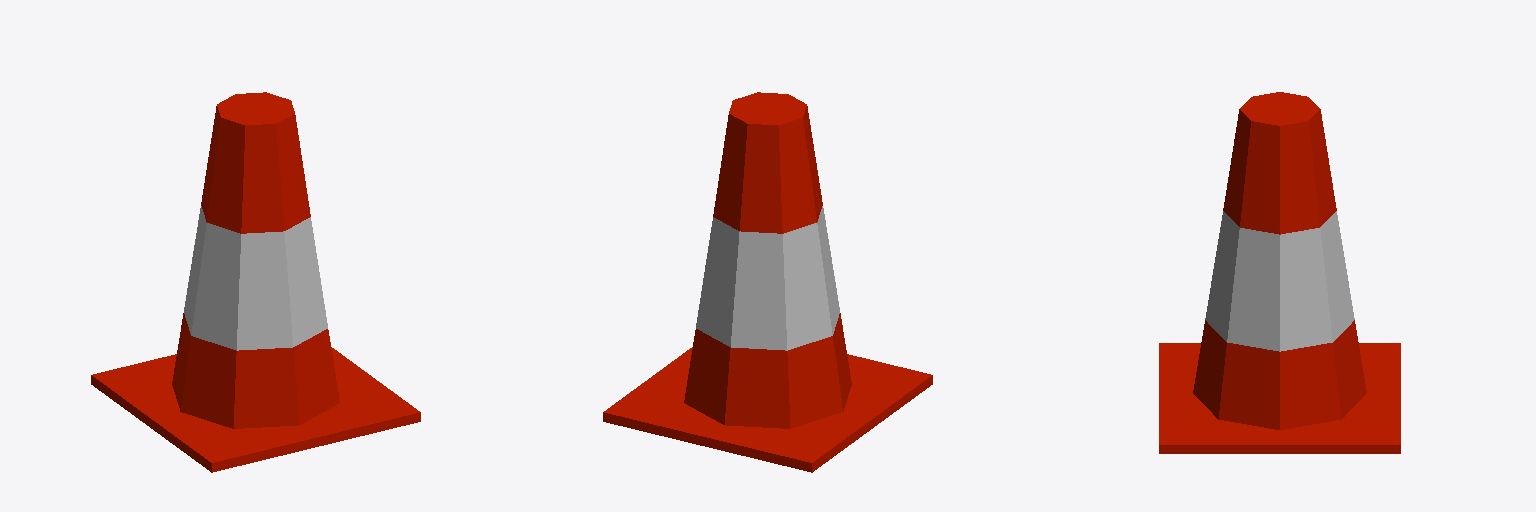
The picture shows the model from 3 angles: view 1: azimuth 30°, elevation 25°; view 2: azimuth 150°, elevation 25°; view 3: azimuth 270°, elevation 25°; orthographic projection.
Parts seen in each view (by area): view 1: Cube.000_Cube.012; view 2: Cube.000_Cube.012; view 3: Cube.000_Cube.012.
Part boxes in pixels (left/top/right/bottom): Cube.000_Cube.012: left=91, top=92, right=420, bottom=472; Cube.000_Cube.012: left=603, top=92, right=932, bottom=472; Cube.000_Cube.012: left=1159, top=92, right=1400, bottom=453.
Size of the model in its own units: 2.28 by 3.07 by 2.28.